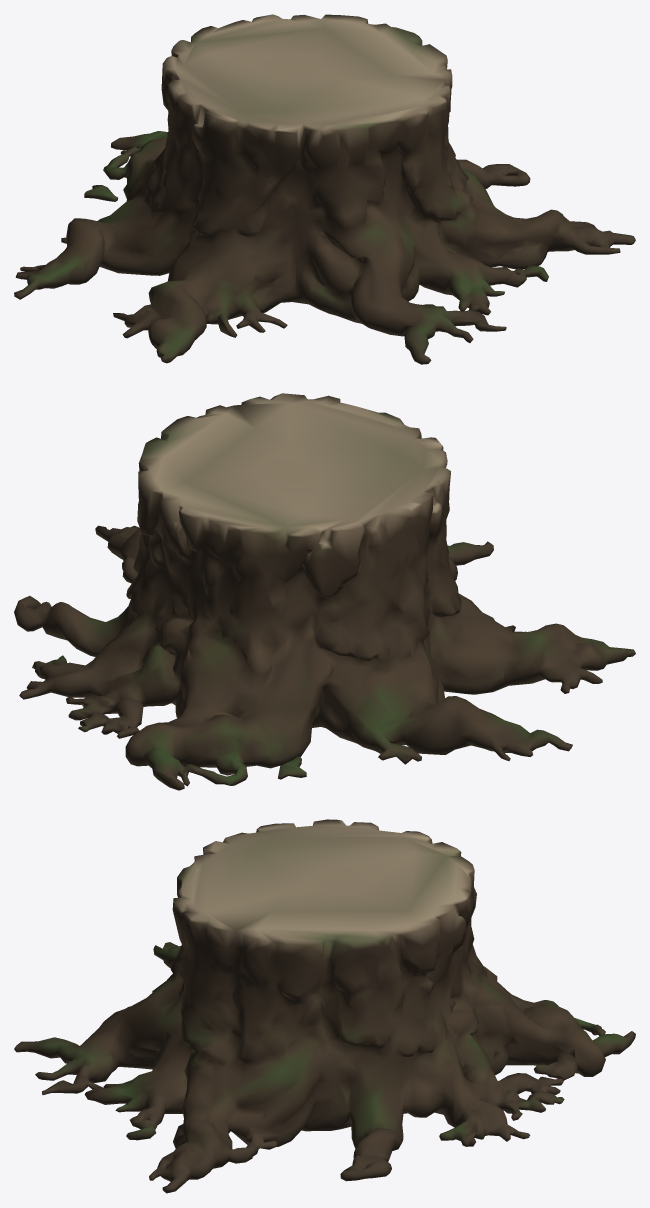
Rendered from stump.glb.
3 views of the same model, one above another, from view 1: azimuth 30°, elevation 25°; view 2: azimuth 150°, elevation 25°; view 3: azimuth 270°, elevation 25° (orthographic). The views are drawn at different scales.
Parts seen in each view (by area): view 1: geometry_0; view 2: geometry_0; view 3: geometry_0.
Boxes of the visible parts, x1,y1,x2,y2 form: geometry_0: (14, 14, 635, 364); geometry_0: (14, 393, 635, 790); geometry_0: (14, 819, 635, 1193).
Bounding box in the file's own units: 5.95 × 2 × 5.88.
